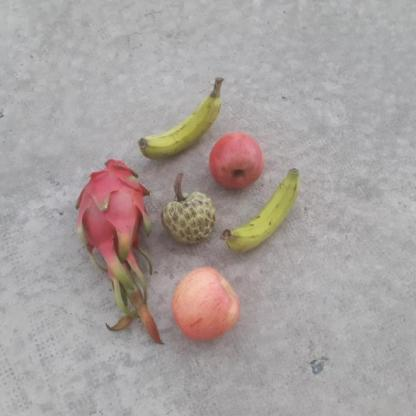annona: (159, 191, 219, 246)
apple: (165, 264, 243, 344), (206, 134, 269, 188)
banana: (134, 70, 224, 163), (222, 165, 306, 263)
pitaya: (76, 154, 146, 242)
